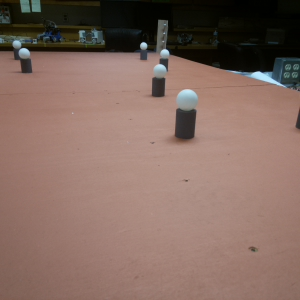corner: (158, 19, 167, 55)
obstacle: (175, 89, 196, 141), (148, 64, 168, 98), (18, 49, 34, 74), (11, 38, 22, 60), (139, 40, 148, 61), (160, 49, 170, 67)
